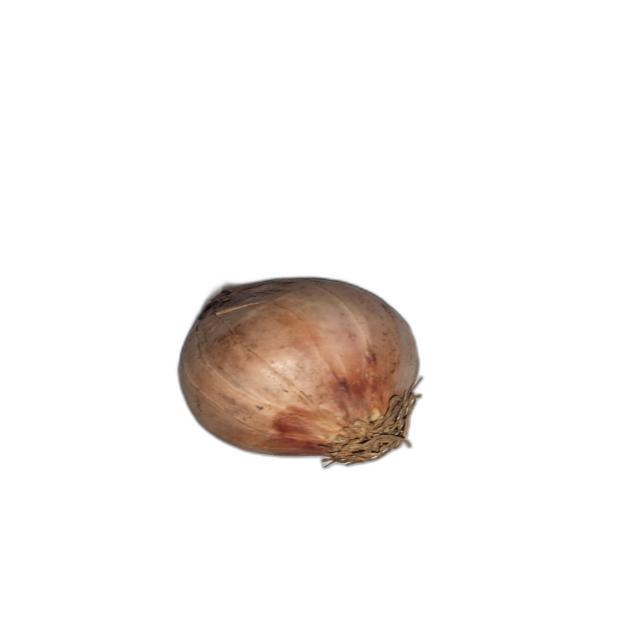onion: (175, 276, 427, 470)
